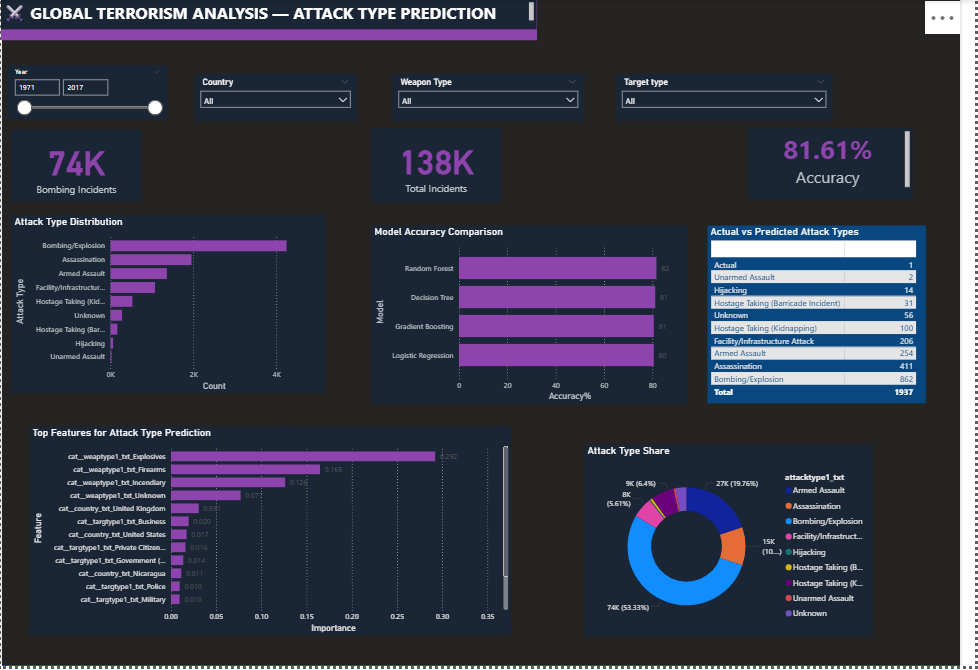

The page's visual inventory and layout, read from the dashboard file:
{"tool":"powerbi","page":{"name":"Attack type","canvas":[1605,1100],"ordinal":2},"visuals":[{"type":"shape","box":[0,0,1583.3,1100],"z":0},{"type":"shape","box":[0,0,884,68],"z":1000},{"type":"textbox","box":[0,0,883.3,50],"z":2000},{"type":"card","fields":{"Values":["Global Terrorism Data.Total Incidents"]},"box":[610,213.3,213.3,121.7],"z":3000},{"type":"card","fields":{"Values":["Global Terrorism Data.Bombing Incidents"]},"box":[16.7,215,213.3,118.3],"z":4000},{"type":"clusteredBarChart","title":" Model Accuracy Comparison","fields":{"Category":["model_comparison.Model"],"Y":["Sum(model_comparison.Accuracy %)"]},"box":[610,372.9,521.4,294.3],"z":5000},{"type":"clusteredBarChart","title":"Attack Type Distribution","fields":{"Category":["attack_distribution (1).Attack Type"],"Y":["Sum(attack_distribution (1).Count)"]},"box":[17.1,357.1,517.1,294.3],"z":6000},{"type":"clusteredBarChart","title":"Top Features for Attack Type Prediction","fields":{"Y":["Sum(feature_importance (1).Importance)"],"Category":["feature_importance (1).Feature"]},"box":[47.1,705.7,794.3,344.3],"z":7000},{"type":"tableEx","title":"Actual vs Predicted Attack Types","fields":{"Values":["actual_vs_predicted (1).Column1","CountNonNull(actual_vs_predicted (1).Column2)"]},"box":[1165,373.3,360,293.3],"z":8000},{"type":"donutChart","title":"Attack Type Share","fields":{"Series":["Global Terrorism Data.attacktype1_txt"],"Y":["Global Terrorism Data.Total Incidents"]},"box":[961.4,734.3,475.7,315.7],"z":9000},{"type":"slicer","title":"Year","fields":{"Values":["Global Terrorism Data.iyear"]},"box":[10,110,265,90],"z":10000},{"type":"slicer","fields":{"Values":["Global Terrorism Data.country_txt"]},"box":[318.6,122.9,267.1,77.1],"z":11000},{"type":"slicer","fields":{"Values":["Global Terrorism Data.weaptype1_txt"]},"box":[645.7,122.9,315.7,77.1],"z":12000},{"type":"slicer","fields":{"Values":["Global Terrorism Data.targtype1_txt"]},"box":[1015,123.3,356.7,76.7],"z":13000},{"type":"textbox","box":[1232.9,212.9,271.4,118.6],"z":14000}]}

Visuals, with their boxes on the page's 1605x1100 design canvas (x1, y1, x2, y2). These are canvas units, not pixel positions in the 978x670 screenshot, which may show the page scaled, cropped or inside an application window:
shape: [left=0, top=0, right=1583, bottom=1100]
shape: [left=0, top=0, right=884, bottom=68]
textbox: [left=0, top=0, right=883, bottom=50]
card - Global Terrorism Data.Total Incidents: [left=610, top=213, right=823, bottom=335]
card - Global Terrorism Data.Bombing Incidents: [left=17, top=215, right=230, bottom=333]
" Model Accuracy Comparison" clusteredBarChart: [left=610, top=373, right=1131, bottom=667]
"Attack Type Distribution" clusteredBarChart: [left=17, top=357, right=534, bottom=651]
"Top Features for Attack Type Prediction" clusteredBarChart: [left=47, top=706, right=841, bottom=1050]
"Actual vs Predicted Attack Types" tableEx: [left=1165, top=373, right=1525, bottom=667]
"Attack Type Share" donutChart: [left=961, top=734, right=1437, bottom=1050]
"Year" slicer: [left=10, top=110, right=275, bottom=200]
slicer - Global Terrorism Data.country_txt: [left=319, top=123, right=586, bottom=200]
slicer - Global Terrorism Data.weaptype1_txt: [left=646, top=123, right=961, bottom=200]
slicer - Global Terrorism Data.targtype1_txt: [left=1015, top=123, right=1372, bottom=200]
textbox: [left=1233, top=213, right=1504, bottom=332]
